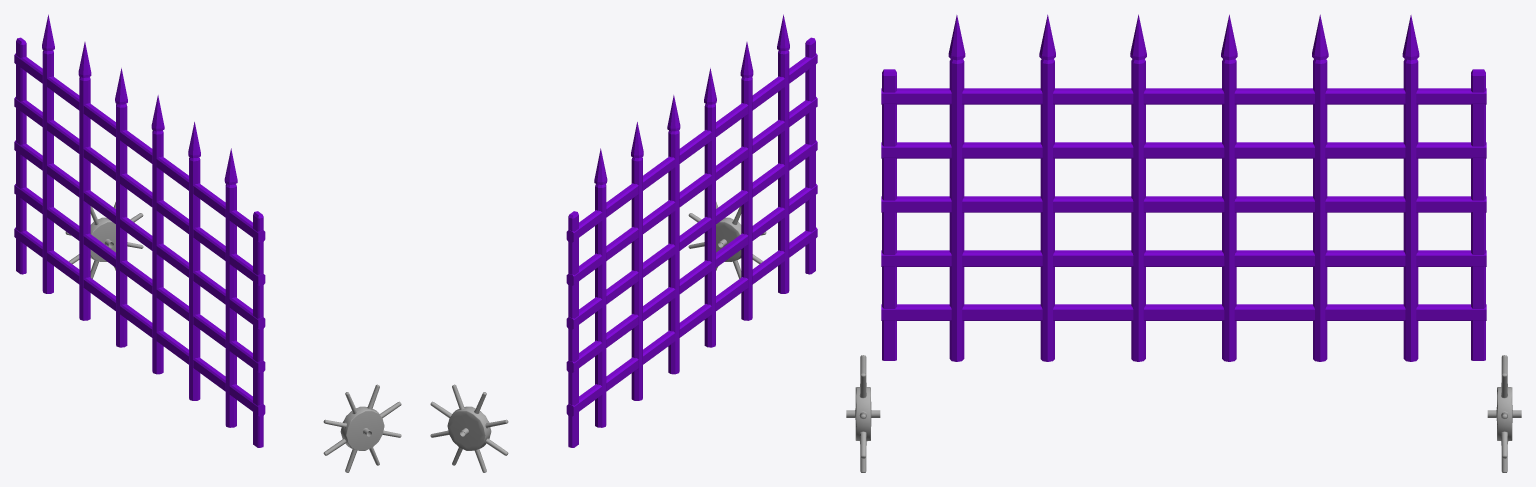
The model's file is KogsMetal_Static.fbx.
The picture shows the model from 3 angles, left to right: view 1: azimuth 30°, elevation 25°; view 2: azimuth 150°, elevation 25°; view 3: azimuth 270°, elevation 25°; orthographic projection. The views are drawn at different scales.
Parts seen in each view (by area): view 1: Metal, Kog (×2); view 2: Metal, Kog (×2); view 3: Metal, Kog (×2).
Boxes of the visible parts, x1,y1,x2,y2 form: Metal: [14, 14, 265, 447]; Kog (×2): [65, 202, 401, 472]; Metal: [566, 14, 817, 447]; Kog (×2): [430, 202, 766, 472]; Metal: [881, 14, 1486, 361]; Kog (×2): [846, 355, 1521, 472].
Size of the model in its own units: 3.39 by 7.43 by 11.55.
